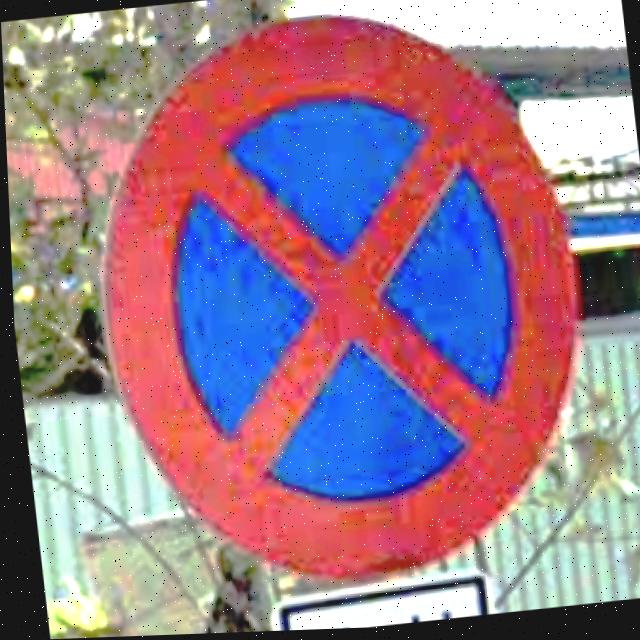nopark: (100, 15, 574, 591)
